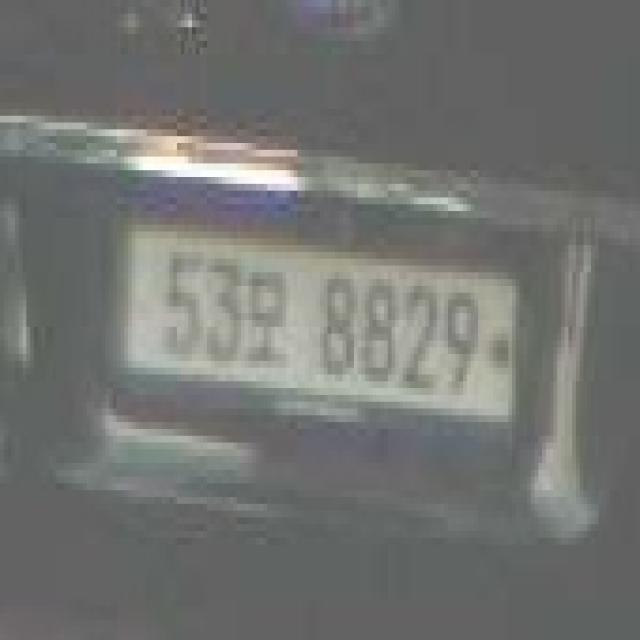2: (395, 258, 437, 402)
3: (203, 232, 237, 374)
5: (158, 245, 200, 354)
8: (316, 238, 358, 388), (369, 259, 399, 395)
9: (440, 272, 482, 416)
license_plate: (109, 197, 520, 470)
mo: (245, 265, 286, 361)
